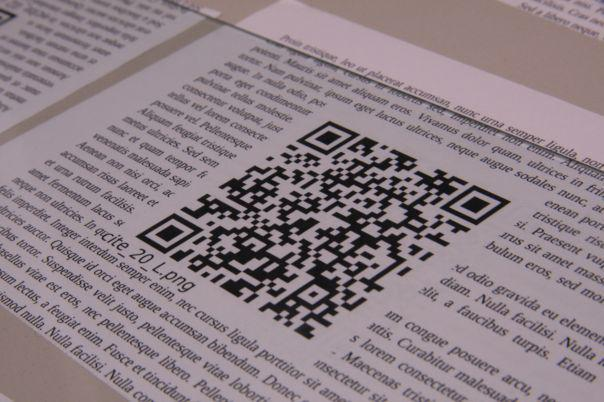Finder pattern: (136, 212, 204, 258), (440, 184, 511, 225), (296, 119, 362, 156)
